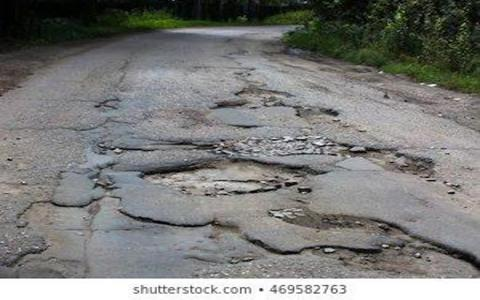patchy roads: (24, 195, 473, 274), (158, 82, 423, 189)
